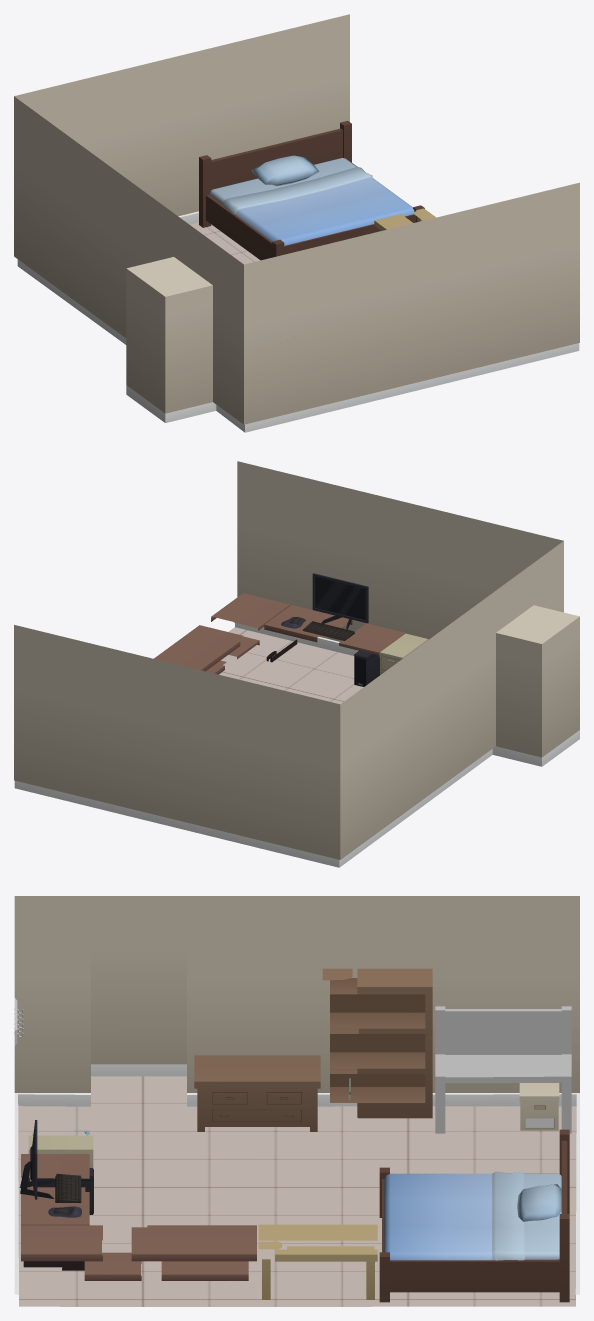
Rendered from Koi room.fbx.
3 renders of one model, top to bottom at view 1: azimuth 30°, elevation 25°; view 2: azimuth 150°, elevation 25°; view 3: azimuth 270°, elevation 25°, orthographic. The views are drawn at different scales.
Visible parts, largest first — view 1: Room, Bed with sheet, Table; view 2: Room, Desk, Tv Screen Stand, File Cabinet, PcCase, Mousenkeyboard; view 3: Room, Bed with sheet, Shelf, Desk, WorkBench, Dressing Cabinet, Table, Office Box, File Cabinet, Mousenkeyboard, Tv Screen Stand.
Part boxes in pixels (<box>): Room: <box>14,14,579,432</box>; Bed with sheet: <box>199,121,424,260</box>; Table: <box>374,208,435,230</box>; Room: <box>14,461,579,867</box>; Desk: <box>154,593,405,674</box>; Tv Screen Stand: <box>312,573,368,629</box>; File Cabinet: <box>380,633,428,674</box>; PcCase: <box>354,650,379,686</box>; Mousenkeyboard: <box>281,617,354,640</box>; Room: <box>14,896,579,1306</box>; Bed with sheet: <box>379,1129,569,1302</box>; Shelf: <box>322,968,432,1118</box>; Desk: <box>21,1154,256,1280</box>; WorkBench: <box>435,1006,571,1133</box>; Dressing Cabinet: <box>194,1055,320,1131</box>; Table: <box>258,1224,377,1299</box>; Office Box: <box>519,1083,559,1130</box>; File Cabinet: <box>28,1135,93,1187</box>; Mousenkeyboard: <box>48,1173,81,1217</box>; Tv Screen Stand: <box>20,1120,53,1199</box>.
Size of the model in its own units: 8.64 by 3.65 by 8.96.
